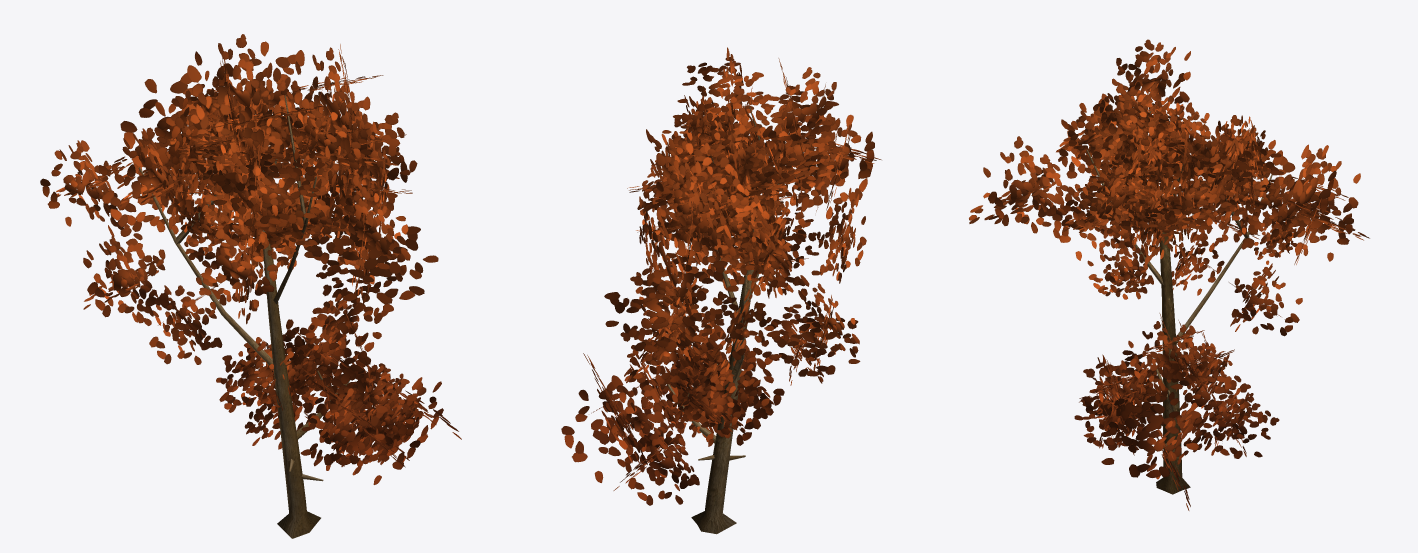
The model's file is env_tree_autumn_mature_01.glb.
3 renders of one model, left to right at view 1: azimuth 30°, elevation 25°; view 2: azimuth 150°, elevation 25°; view 3: azimuth 270°, elevation 25°, orthographic. The views are drawn at different scales.
Parts seen in each view (by area): view 1: tree_autumn_mature_01; view 2: tree_autumn_mature_01; view 3: tree_autumn_mature_01.
Part boxes in pixels (<box>): tree_autumn_mature_01: <box>40,34,461,538</box>; tree_autumn_mature_01: <box>561,47,881,534</box>; tree_autumn_mature_01: <box>969,39,1369,510</box>.
Size of the model in its own units: 5.76 by 7.42 by 6.87.
Materials: 2 (2 with a texture image).
